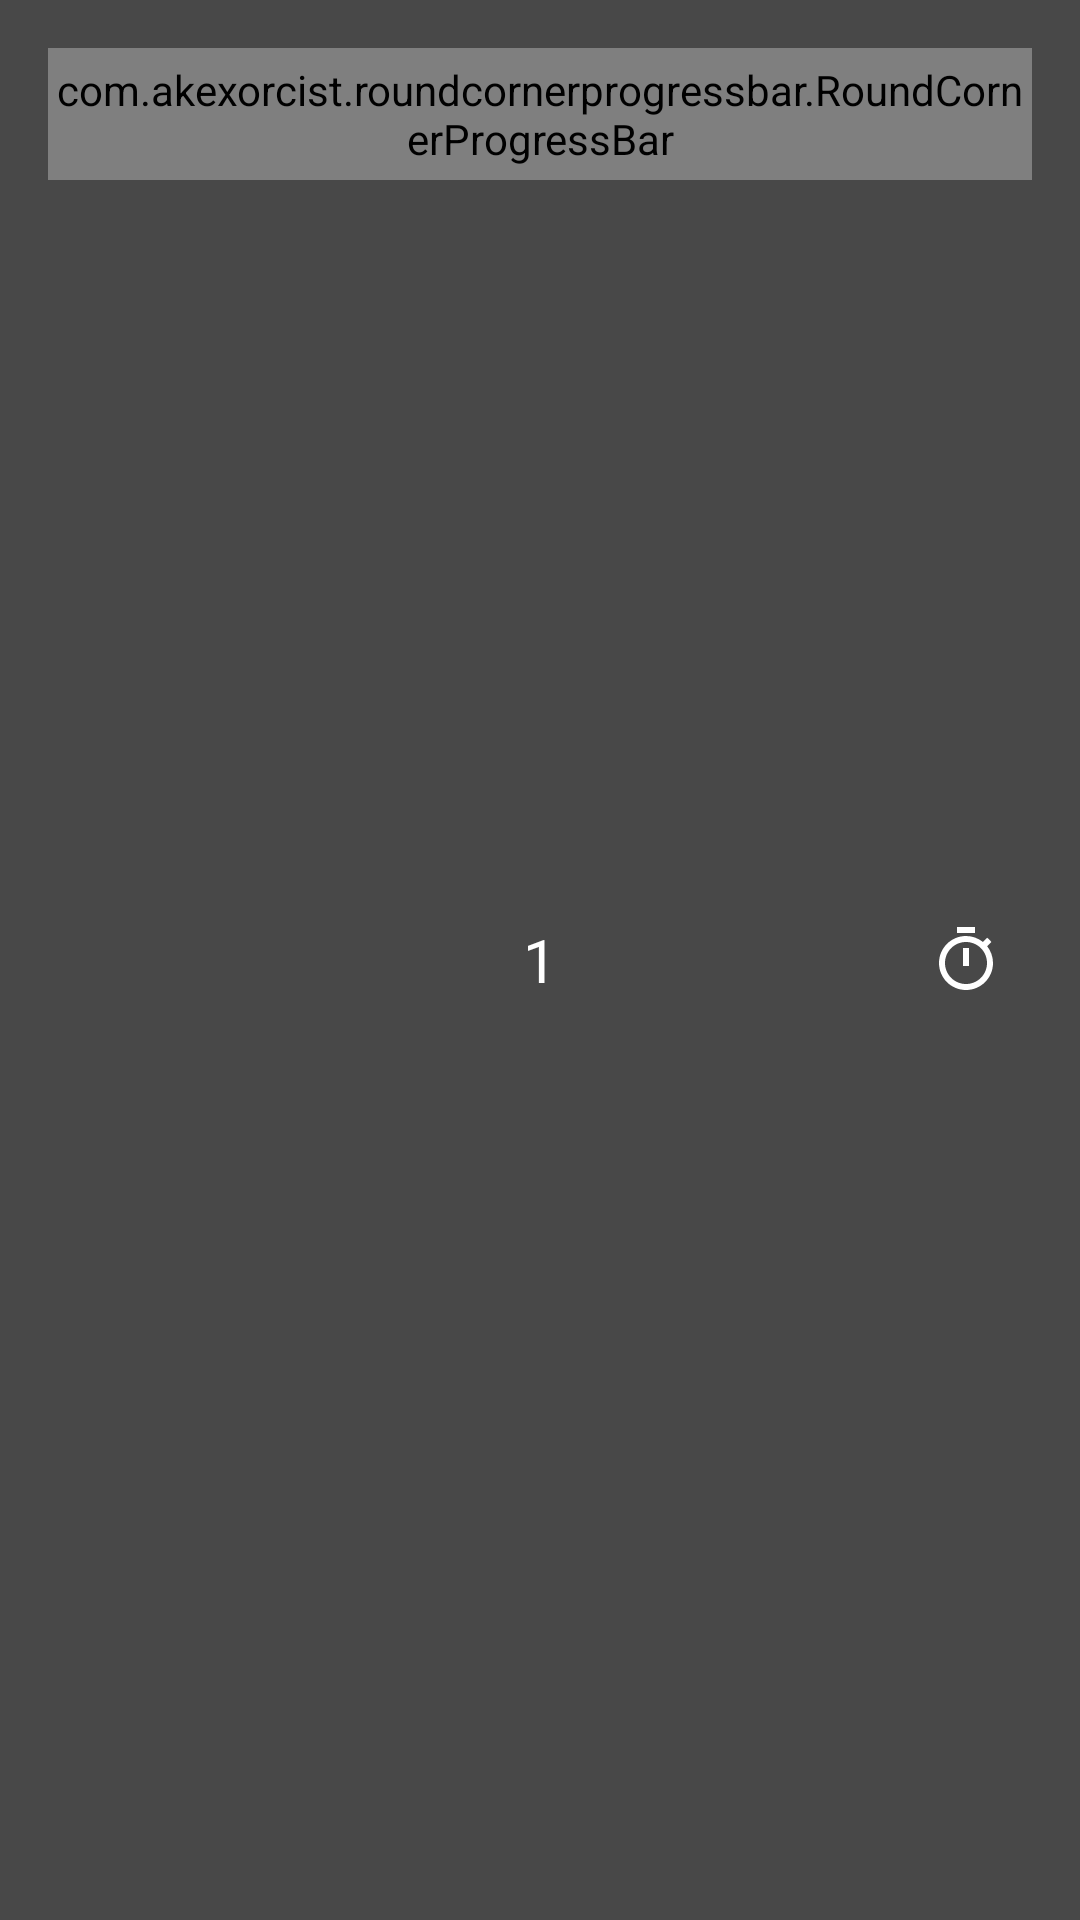

Icons on this 1080*1920 Android screen, each with the point to tap as (x=x, y=y):
timer: (x=966, y=958)
